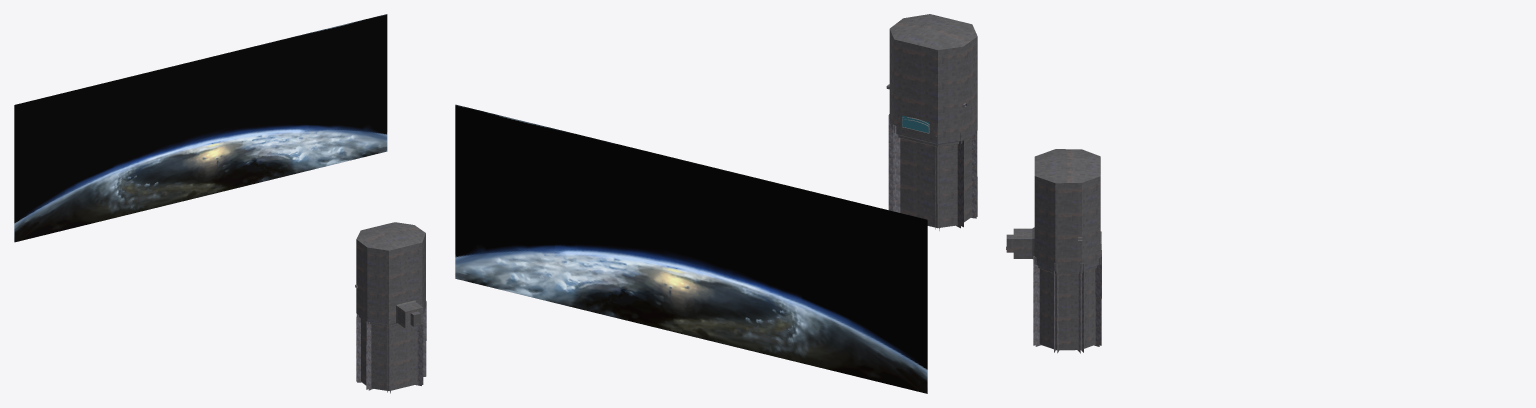
File: space-station.dae
3 views of the same model, side by side, from view 1: azimuth 30°, elevation 25°; view 2: azimuth 150°, elevation 25°; view 3: azimuth 270°, elevation 25° (orthographic). The views are drawn at different scales.
Visible parts, largest first — view 1: matte_geo, Walls_geo; view 2: matte_geo, Walls_geo; view 3: Walls_geo.
Boxes of the visible parts, x1=… form: matte_geo: x1=14, y1=14, x2=387, y2=242; Walls_geo: x1=356, y1=222, x2=426, y2=393; matte_geo: x1=455, y1=104, x2=927, y2=393; Walls_geo: x1=888, y1=14, x2=977, y2=230; Walls_geo: x1=1006, y1=149, x2=1101, y2=353.
Size of the model in its own units: 163 by 76.09 by 164.
